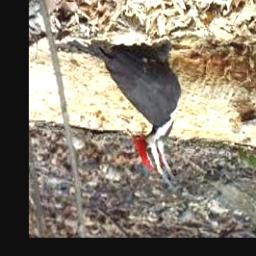Woodpecker: (67, 40, 182, 188)
